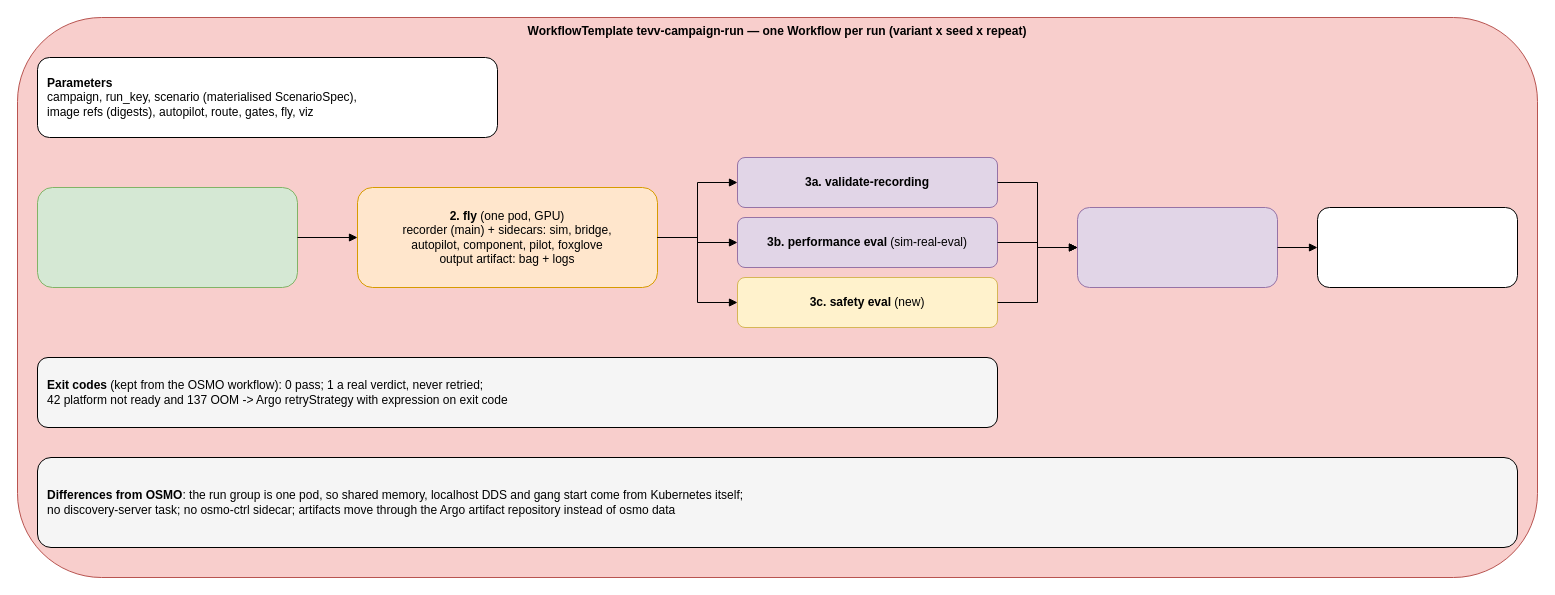
Some shapes in this 1555 by 595 pixel diagram are drawn without their labels. Here are the shapes that lost their labels. From the top down, the box of each, then its label:
(36, 186, 298, 288): 1. generate stackgen: ScenarioSpec -> stack config output artifact: cfg.tgz
(1076, 206, 1278, 288): 4. verdict gates from the CampaignSpec
(1316, 206, 1518, 288): 5. register run registry row, manifest
